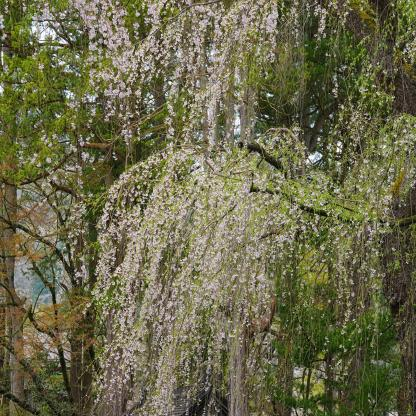ShidareZakura: (56, 65, 416, 416), (0, 0, 354, 189)
